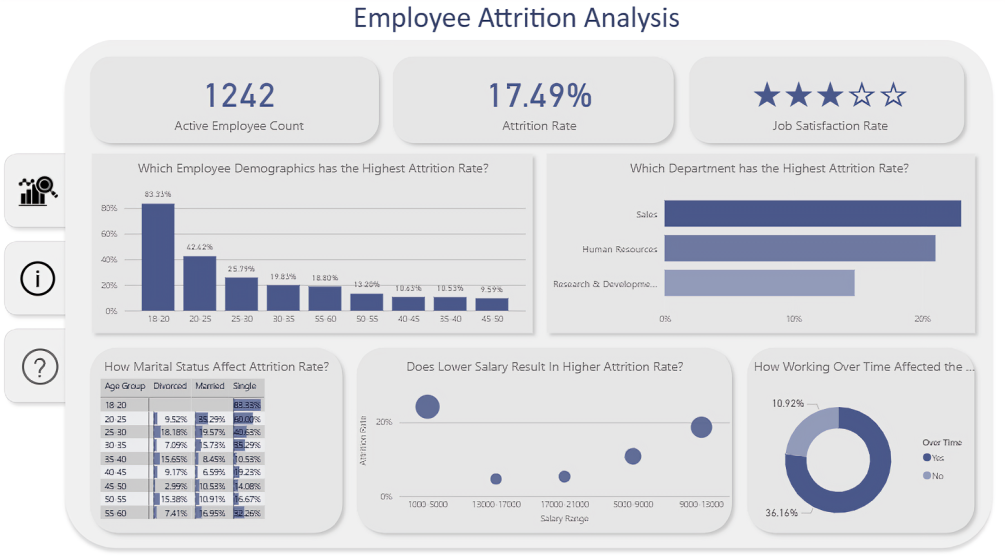

The page's visual inventory and layout, read from the dashboard file:
{"tool":"powerbi","page":{"name":"Dashboard","canvas":[1280,720],"ordinal":0},"visuals":[{"type":"group","id":"g1","title":"Page Background","box":[0,47.9,1269.7,663.1],"z":0},{"type":"shape","box":[492.5,69.1,374.4,128.2],"z":0,"group":"g2"},{"type":"shape","box":[0,193.2,116.2,111.1],"z":0,"group":"g1"},{"type":"group","id":"g2","title":"Visual Background","box":[108,69.1,1139,622.1],"z":1000},{"type":"shape","box":[108,69.1,384.5,128.2],"z":1000,"group":"g2"},{"type":"shape","box":[0,416,114.7,111.1],"z":1000,"group":"g1"},{"type":"textbox","box":[446.5,0,590.9,58],"z":2000},{"type":"shape","box":[866.9,69.1,367.2,128.2],"z":2000,"group":"g2"},{"type":"shape","box":[0,304.8,114.7,111.1],"z":2000,"group":"g1"},{"type":"shape","box":[76.9,47.9,1192.8,663.1],"z":3000,"group":"g1"},{"type":"card","fields":{"Values":["_Measures.Active Employee Count"]},"box":[164.2,82.1,282.2,102.2],"z":3000},{"type":"shape","box":[686.9,192.9,560.2,244.8],"z":3000,"group":"g2"},{"type":"card","fields":{"Values":["_Measures.Attrition Rate"]},"box":[540,82.1,292.3,102.2],"z":4000},{"type":"shape","box":[110.9,192.9,576,244.8],"z":4000,"group":"g2"},{"type":"card","fields":{"Values":["_Measures.Job Satisfaction star rating"]},"box":[908.6,82.1,292.3,102.2],"z":5000},{"type":"shape","box":[108,437.7,338.4,253.4],"z":5000,"group":"g2"},{"type":"barChart","title":"Which Department has the Highest Attrition Rate?","fields":{"Category":["HR_Analytics.Department"],"Y":["_Measures.Attrition Rate"],"Series":["HR_Analytics.Department"]},"box":[686.9,208.8,581.8,220.3],"z":6000},{"type":"shape","box":[940.3,437.7,306.7,253.4],"z":6000,"group":"g2"},{"type":"shape","box":[446.4,437.7,493.9,253.4],"z":7000,"group":"g2"},{"type":"scatterChart","title":"Does Lower Salary Result In Higher Attrition Rate?","fields":{"Y":["_Measures.Attrition Rate"],"X":["HR_Analytics.Salary Range"],"Size":["_Measures.Attrition Rate"]},"box":[453.6,460.8,479.5,216],"z":7000},{"type":"columnChart","title":"Which Employee Demographics has the Highest Attrition Rate?","fields":{"Category":["HR_Analytics.Age Group"],"Y":["_Measures.Attrition Rate"]},"box":[125.3,208.8,548.6,220.3],"z":8000},{"type":"pivotTable","title":"How Marital Status Affect Attrition Rate?","fields":{"Rows":["HR_Analytics.Age Group"],"Columns":["HR_Analytics.Marital Status"],"Values":["_Measures.Attrition Rate"]},"box":[125.3,460.8,303.8,237.6],"z":9000},{"type":"donutChart","title":"How Working Over Time Affected the Attrition Rate?","fields":{"Category":["HR_Analytics.Over Time"],"Y":["_Measures.Attrition Rate"]},"box":[953.3,460.8,293.8,237.6],"z":10000},{"type":"image","box":[18.7,218.9,67.7,60.5],"z":11000},{"type":"actionButton","box":[22.3,331.9,62.5,56.6],"z":12000},{"type":"actionButton","box":[23.8,437.6,59.5,67],"z":13000}]}

Visuals, with their boxes in screenshot pixels (x1, y1, x2, y2), scaled from the page's 1280x720 canvas onto the 1005x559 screenshot:
"Page Background" group: [0,37,997,552]
shape: [387,54,681,153]
shape: [0,150,91,236]
"Visual Background" group: [85,54,979,537]
shape: [85,54,387,153]
shape: [0,323,90,409]
textbox: [351,0,815,45]
shape: [681,54,969,153]
shape: [0,237,90,323]
shape: [60,37,997,552]
card - _Measures.Active Employee Count: [129,64,350,143]
shape: [539,150,979,340]
card - _Measures.Attrition Rate: [424,64,653,143]
shape: [87,150,539,340]
card - _Measures.Job Satisfaction star rating: [713,64,943,143]
shape: [85,340,350,537]
"Which Department has the Highest Attrition Rate?" barChart: [539,162,996,333]
shape: [738,340,979,537]
shape: [350,340,738,537]
"Does Lower Salary Result In Higher Attrition Rate?" scatterChart: [356,358,733,525]
"Which Employee Demographics has the Highest Attrition Rate?" columnChart: [98,162,529,333]
"How Marital Status Affect Attrition Rate?" pivotTable: [98,358,337,542]
"How Working Over Time Affected the Attrition Rate?" donutChart: [748,358,979,542]
image: [15,170,68,217]
actionButton: [18,258,67,302]
actionButton: [19,340,65,392]
